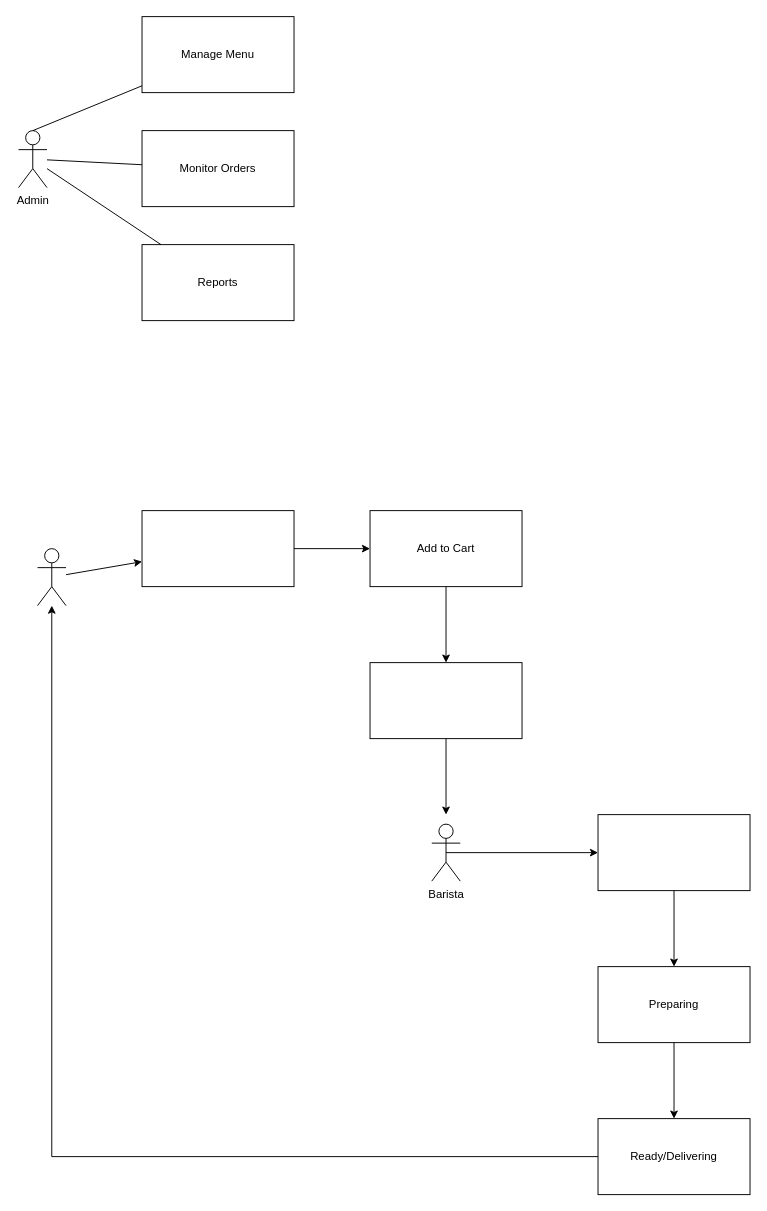
The diagram is 767 pixels wide and 1211 high, and some of its shapes have lost their labels. The shapes that lost their labels are listed below. From the top down, each one's centre as x and y in pixels, then its label:
At point (217, 548): "Browse Menu".
At point (51, 577): "Customer".
At point (445, 700): "Checkout".
At point (673, 852): "See Pending Order".
